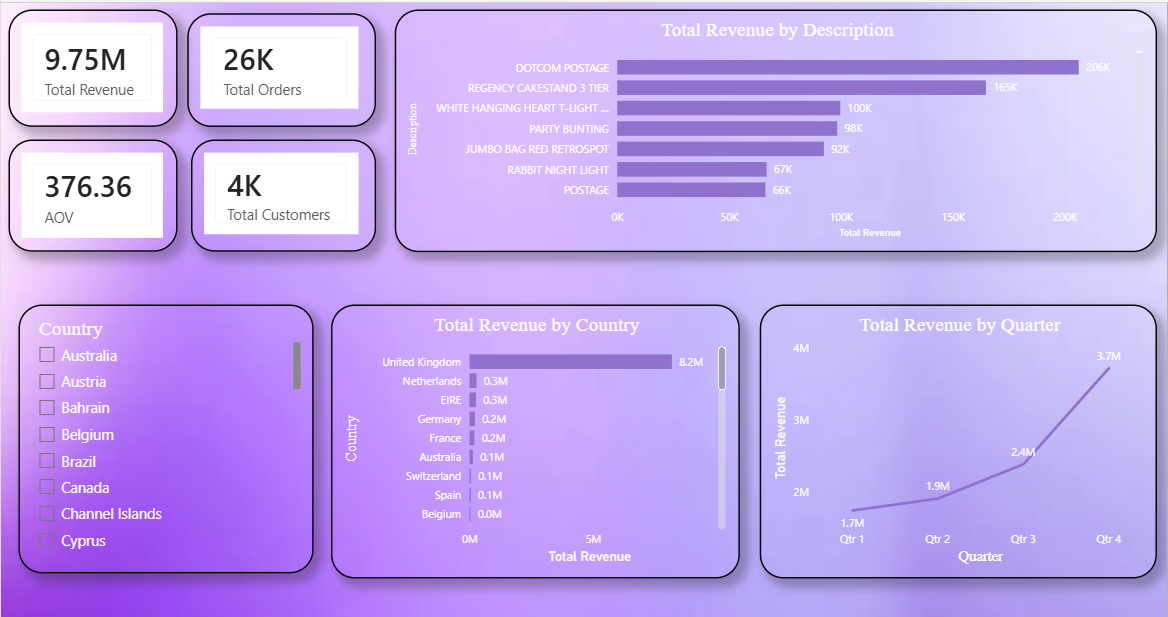

What the dashboard file says about the page in this screenshot:
{"tool":"powerbi","page":{"name":"Page 1","canvas":[1280,720],"ordinal":0},"visuals":[{"type":"cardVisual","fields":{"Data":["Online Retail Data Set.Total Revenue"]},"box":[8.2,52.1,185.2,129],"z":0},{"type":"cardVisual","fields":{"Data":["Online Retail Data Set.Total Orders"]},"box":[204.5,56.3,207.2,124.9],"z":1000},{"type":"cardVisual","fields":{"Data":["Online Retail Data Set.Total Customers"]},"box":[208.6,194.9,203.1,123.5],"z":2000},{"type":"cardVisual","fields":{"Data":["Online Retail Data Set.Avg Order Value"]},"box":[8.2,194.9,185.2,123.5],"z":3000},{"type":"lineChart","fields":{"Category":["Online Retail Data Set.InvoiceDate.Variation.Date Hierarchy.Quarter"],"Y":["Online Retail Data Set.Total Revenue"]},"box":[832.9,376,436.4,300.5],"z":4000},{"type":"barChart","fields":{"Category":["Online Retail Data Set.Country"],"Y":["Online Retail Data Set.Total Revenue"]},"box":[362.3,376,448.7,300.5],"z":5000},{"type":"barChart","fields":{"Category":["Online Retail Data Set.Description"],"Y":["Online Retail Data Set.Total Revenue"]},"box":[432.2,52.1,837.1,266.2],"z":6000},{"type":"slicer","fields":{"Values":["Online Retail Data Set.Country"]},"box":[19.2,376,323.8,295],"z":7000}]}

Visuals, with their boxes in screenshot pixels (x1, y1, x2, y2):
cardVisual - Online Retail Data Set.Total Revenue: [left=7, top=8, right=176, bottom=125]
cardVisual - Online Retail Data Set.Total Orders: [left=186, top=12, right=374, bottom=125]
cardVisual - Online Retail Data Set.Total Customers: [left=190, top=138, right=374, bottom=250]
cardVisual - Online Retail Data Set.Avg Order Value: [left=7, top=138, right=176, bottom=250]
lineChart - Online Retail Data Set.InvoiceDate.Variation.Date Hierarchy.Quarter x Online Retail Data Set.Total Revenue: [left=757, top=302, right=1154, bottom=575]
barChart - Online Retail Data Set.Country x Online Retail Data Set.Total Revenue: [left=329, top=302, right=737, bottom=575]
barChart - Online Retail Data Set.Description x Online Retail Data Set.Total Revenue: [left=393, top=8, right=1154, bottom=250]
slicer - Online Retail Data Set.Country: [left=17, top=302, right=312, bottom=570]
